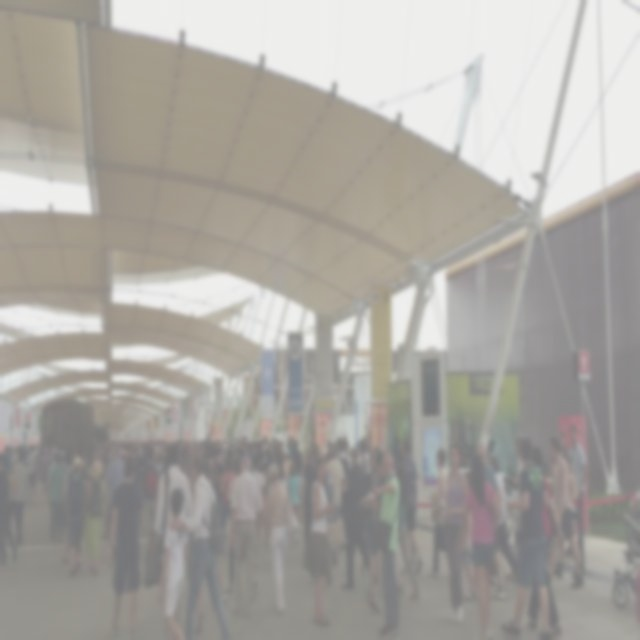pessoa: (168, 451, 234, 638), (502, 434, 554, 638), (148, 441, 196, 638), (230, 428, 402, 481), (459, 449, 501, 639), (526, 443, 566, 638), (463, 440, 508, 604), (106, 452, 144, 639), (544, 434, 586, 594), (260, 458, 300, 618), (437, 438, 470, 630), (227, 452, 264, 622), (308, 453, 342, 628), (104, 436, 214, 488), (372, 449, 402, 639), (156, 486, 192, 638), (228, 458, 260, 606), (340, 447, 370, 592), (488, 453, 520, 588), (392, 448, 419, 601), (552, 448, 582, 580), (301, 482, 334, 590), (82, 458, 109, 578), (426, 445, 449, 580), (402, 436, 424, 576), (567, 422, 588, 558), (66, 453, 89, 576), (104, 441, 125, 555), (0, 451, 19, 566), (10, 444, 30, 550), (46, 451, 67, 546), (214, 434, 231, 548), (324, 440, 346, 526), (46, 441, 104, 472), (362, 482, 379, 586), (2, 440, 30, 498), (286, 460, 302, 547), (24, 443, 38, 508), (32, 434, 47, 490), (558, 430, 568, 450)
